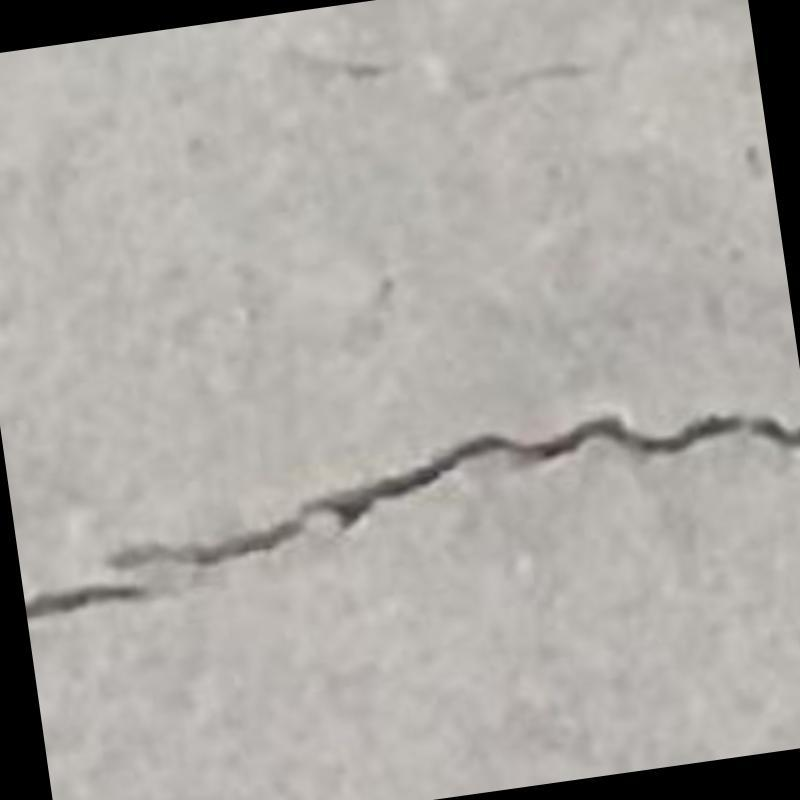pothole: (25, 412, 800, 621)
